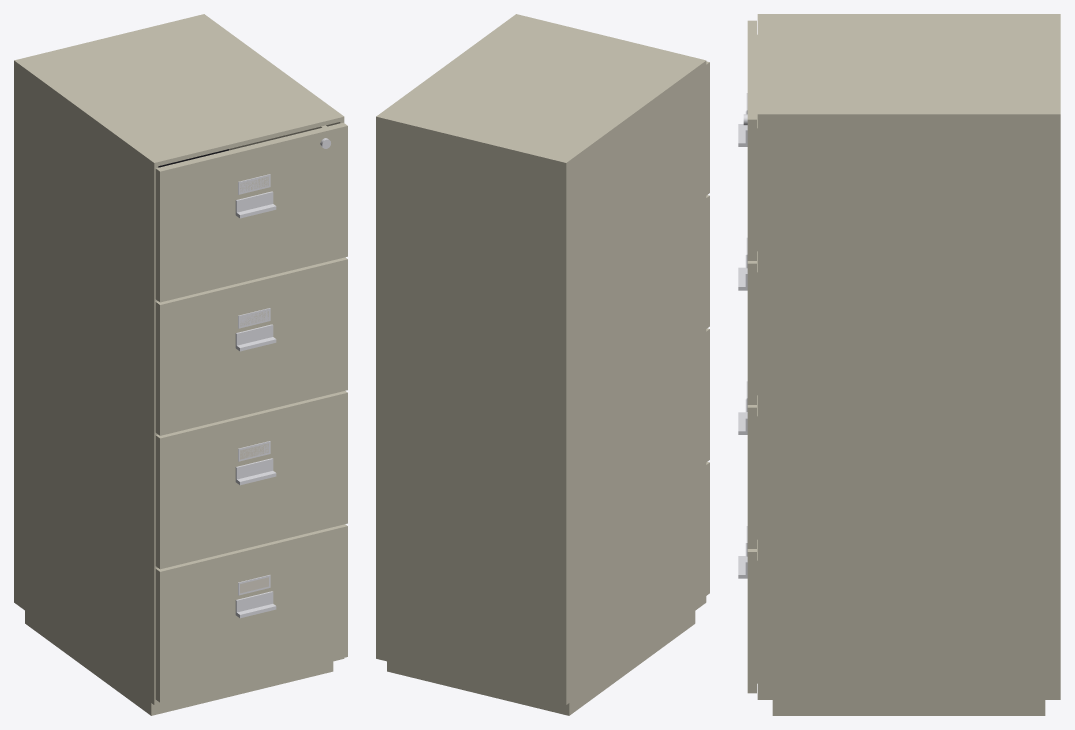
The model's file is 098_four_drawer_vertical_file_cabinet.glb.
The picture shows the model from 3 angles, left to right: view 1: azimuth 30°, elevation 25°; view 2: azimuth 150°, elevation 25°; view 3: azimuth 270°, elevation 25°; orthographic projection. The views are drawn at different scales.
Parts seen in each view (by area): view 1: 000_carcass_side_l, 002_carcass_top, 043_file_drawer_4_front, 010_file_drawer_1_front, 021_file_drawer_2_front, 032_file_drawer_3_front, 005_base, 001_carcass_side_r; view 2: 004_carcass_back_panel, 000_carcass_side_l, 002_carcass_top, 005_base, 001_carcass_side_r, 021_file_drawer_2_front, 032_file_drawer_3_front, 043_file_drawer_4_front, 010_file_drawer_1_front; view 3: 001_carcass_side_r, 002_carcass_top, 005_base, 043_file_drawer_4_front, 010_file_drawer_1_front, 021_file_drawer_2_front, 032_file_drawer_3_front, 000_carcass_side_l.
Part boxes in pixels (x1=…): 000_carcass_side_l: x1=14, y1=59, x2=158, y2=704; 002_carcass_top: x1=14, y1=14, x2=343, y2=166; 043_file_drawer_4_front: x1=155, y1=122, x2=347, y2=302; 010_file_drawer_1_front: x1=155, y1=524, x2=347, y2=702; 021_file_drawer_2_front: x1=155, y1=391, x2=347, y2=569; 032_file_drawer_3_front: x1=155, y1=257, x2=347, y2=435; 005_base: x1=25, y1=611, x2=333, y2=715; 001_carcass_side_r: x1=200, y1=14, x2=344, y2=659; 004_carcass_back_panel: x1=380, y1=122, x2=562, y2=703; 000_carcass_side_l: x1=562, y1=59, x2=706, y2=704; 002_carcass_top: x1=376, y1=15, x2=706, y2=166; 005_base: x1=387, y1=611, x2=695, y2=715; 001_carcass_side_r: x1=376, y1=14, x2=519, y2=659; 021_file_drawer_2_front: x1=706, y1=328, x2=709, y2=462; 032_file_drawer_3_front: x1=706, y1=195, x2=709, y2=328; 043_file_drawer_4_front: x1=706, y1=61, x2=709, y2=195; 010_file_drawer_1_front: x1=706, y1=462, x2=709, y2=595; 001_carcass_side_r: x1=757, y1=112, x2=1060, y2=699; 002_carcass_top: x1=757, y1=14, x2=1060, y2=118; 005_base: x1=772, y1=700, x2=1045, y2=715; 043_file_drawer_4_front: x1=747, y1=20, x2=756, y2=260; 010_file_drawer_1_front: x1=747, y1=549, x2=756, y2=693; 021_file_drawer_2_front: x1=747, y1=405, x2=756, y2=548; 032_file_drawer_3_front: x1=747, y1=261, x2=756, y2=404; 000_carcass_side_l: x1=757, y1=14, x2=1060, y2=15.
Size of the model in its own units: 0.47 by 1.32 by 0.638.
